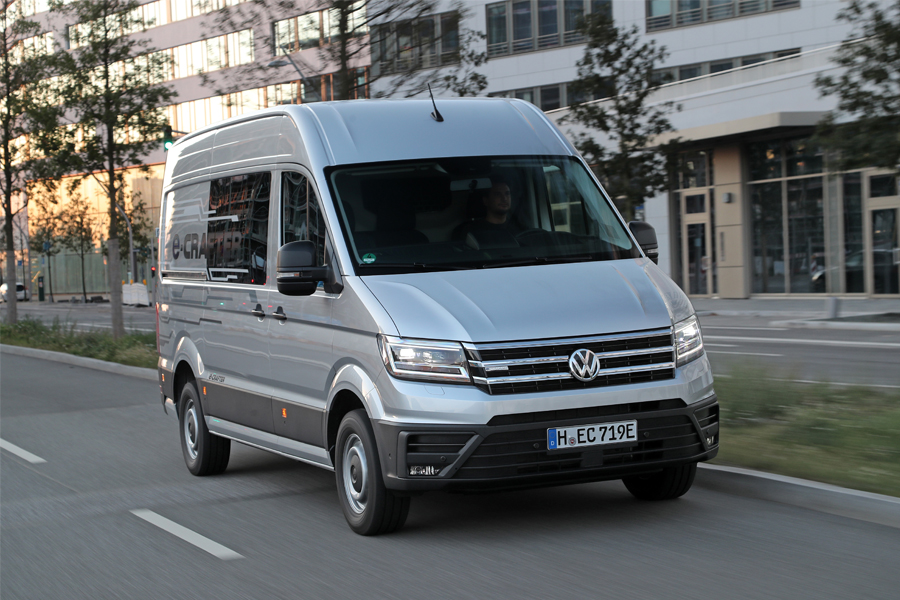tablica: (547, 421, 638, 448)
